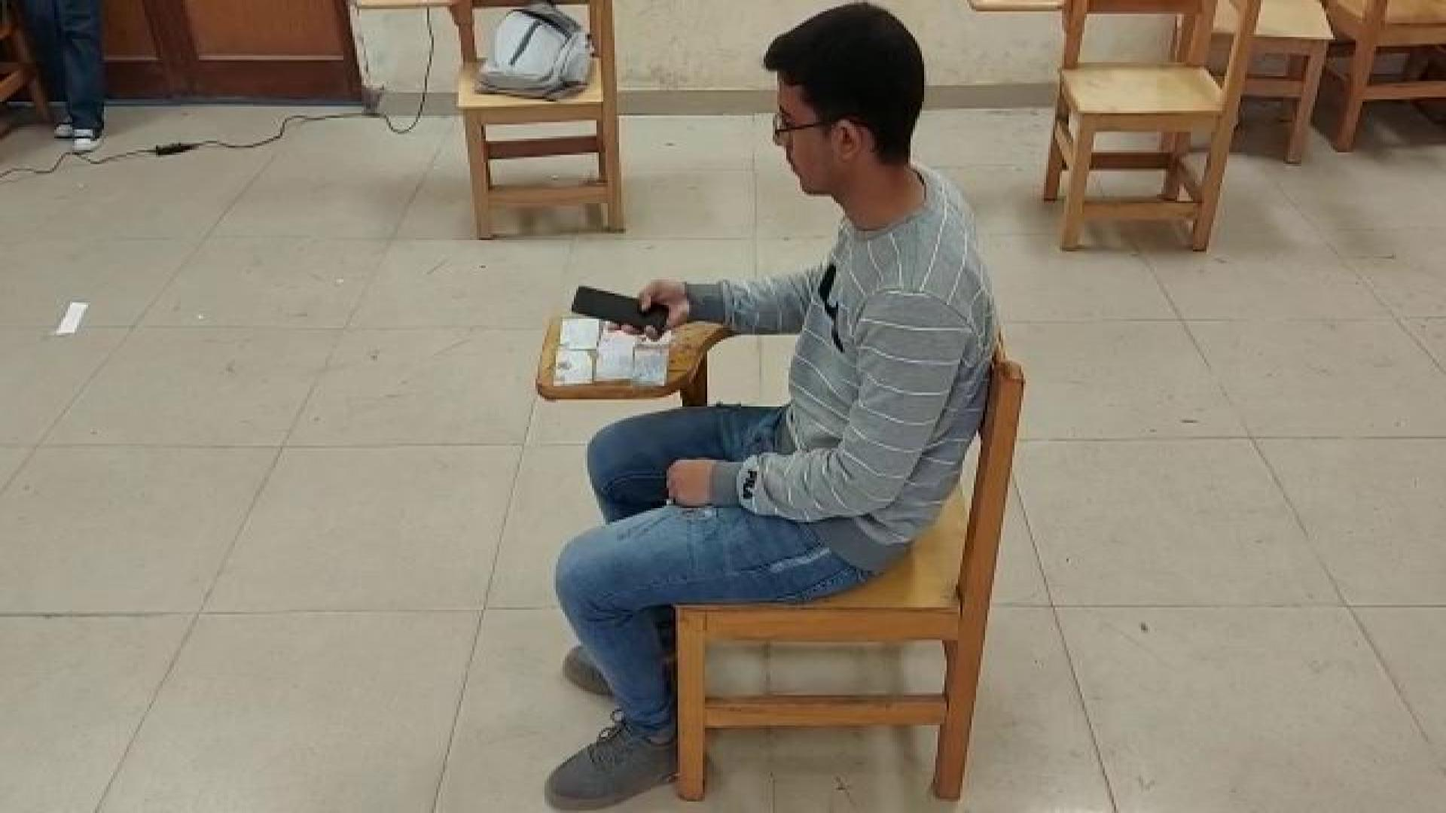phone: (565, 279, 676, 337)
